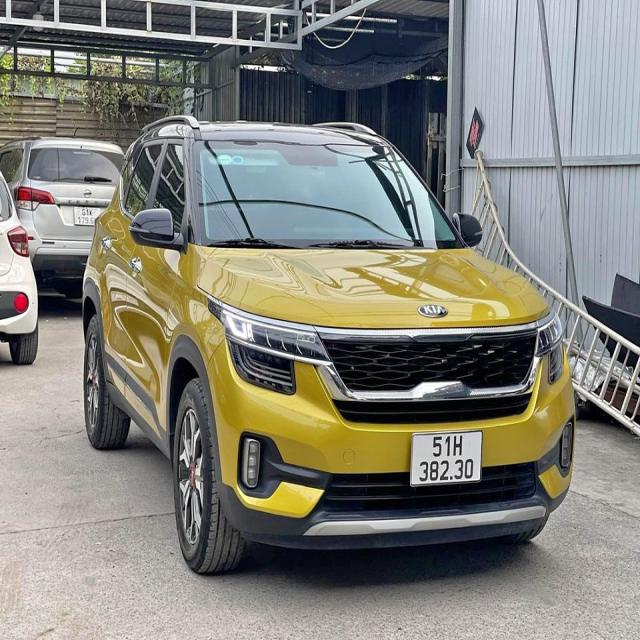car: (82, 115, 601, 574), (11, 135, 124, 287), (0, 145, 40, 374)
plate: (404, 425, 487, 490), (68, 204, 101, 227)
